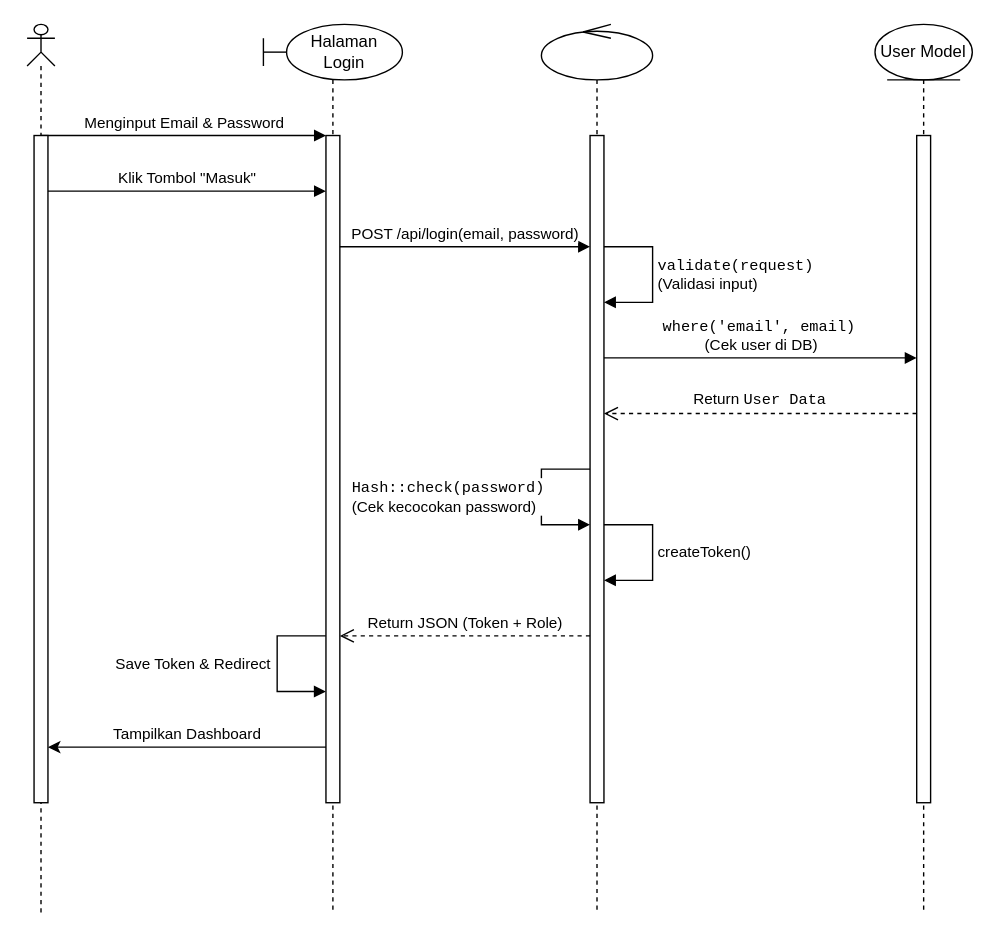
This 997x938 diagram has some shape labels left out. The box of each missing label's shape, as (x1, y1, x2, y2) in pixels:
AuthController: (540, 23, 653, 914)
User: (26, 23, 55, 914)
